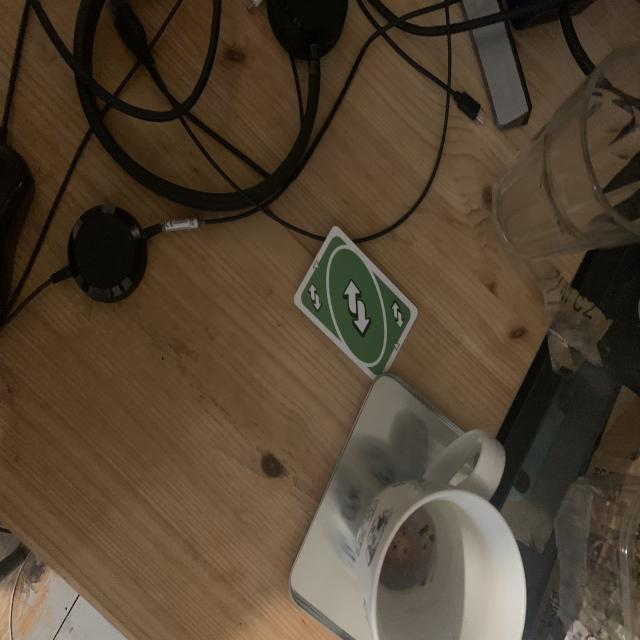lgreenrevers-20: (305, 278, 326, 315)
